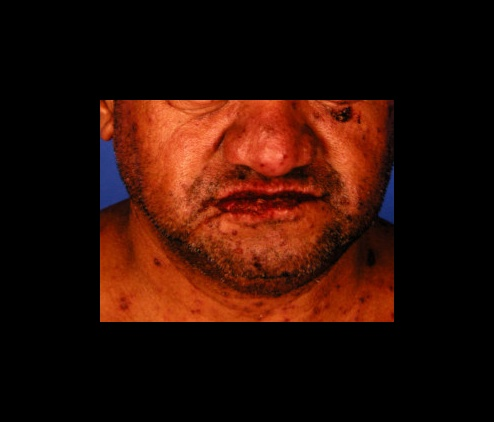SJS-TEN: (97, 95, 395, 325)
